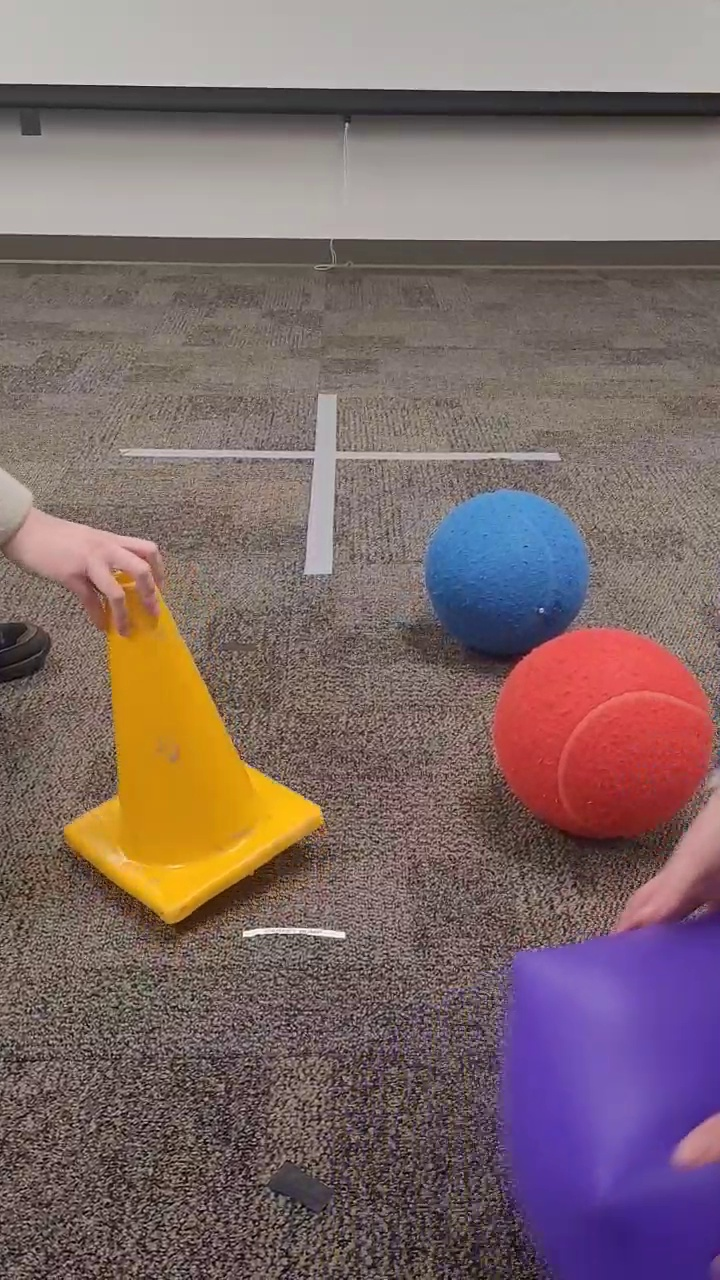ball: (490, 623, 717, 847), (424, 491, 590, 654)
cone: (55, 560, 328, 935)
cube: (492, 908, 720, 1278)
foot: (1, 612, 55, 686)
hand: (1, 460, 169, 640), (611, 760, 720, 940), (669, 1104, 720, 1202)
